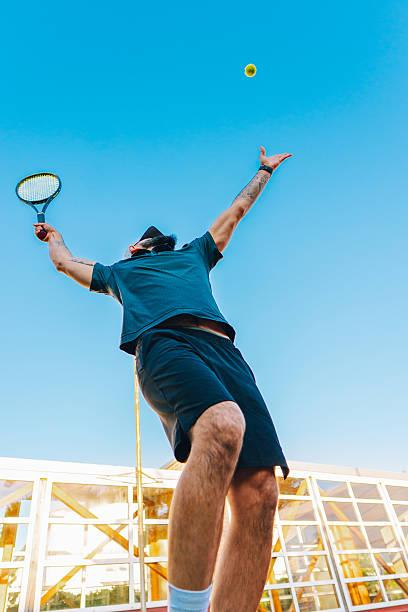ball_tennis: (244, 64, 258, 77)
